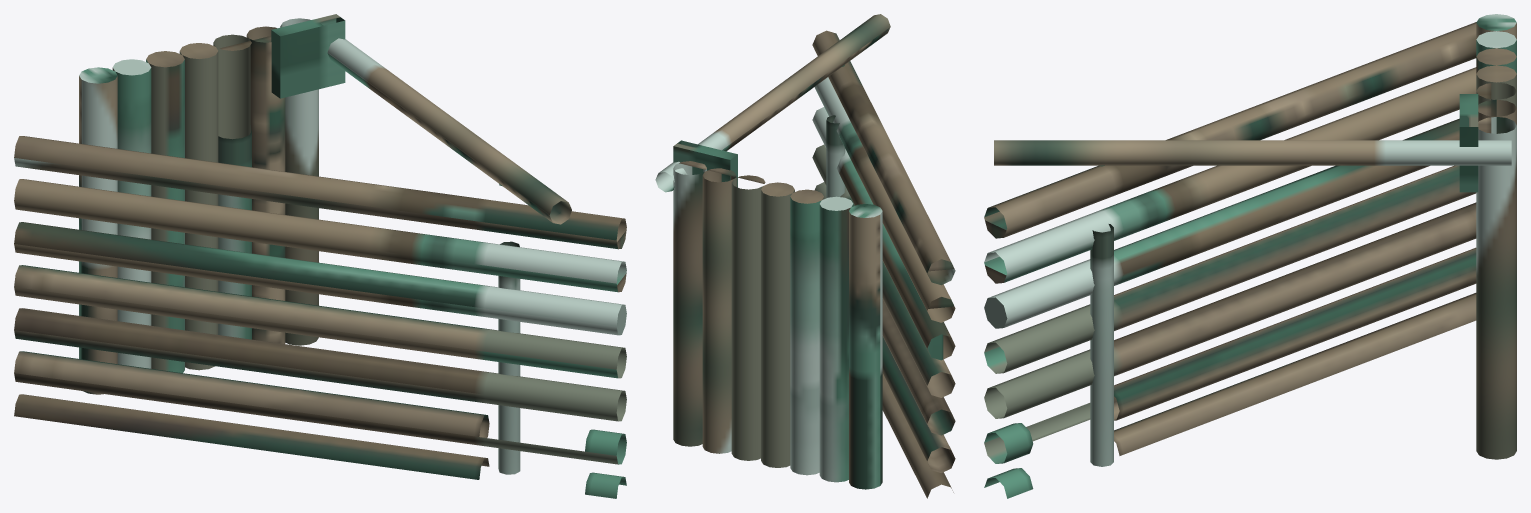
File: section-4.obj
3 renders of one model, left to right at view 1: azimuth 30°, elevation 25°; view 2: azimuth 150°, elevation 25°; view 3: azimuth 270°, elevation 25°, orthographic. The views are drawn at different scales.
Size of the model in its own units: 1.27 by 1.01 by 1.45.
